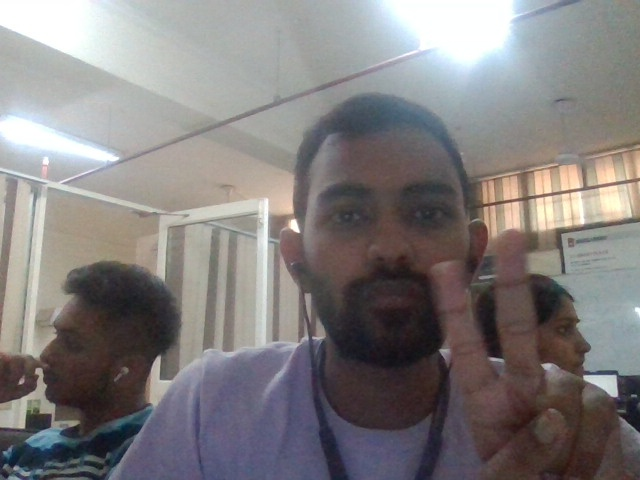ThankYou: (429, 227, 629, 475)
